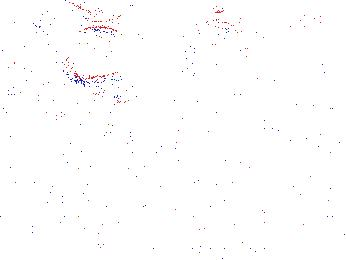moon jellyfish: (241, 22, 328, 77), (1, 22, 59, 101), (61, 26, 133, 84), (194, 18, 248, 93)
